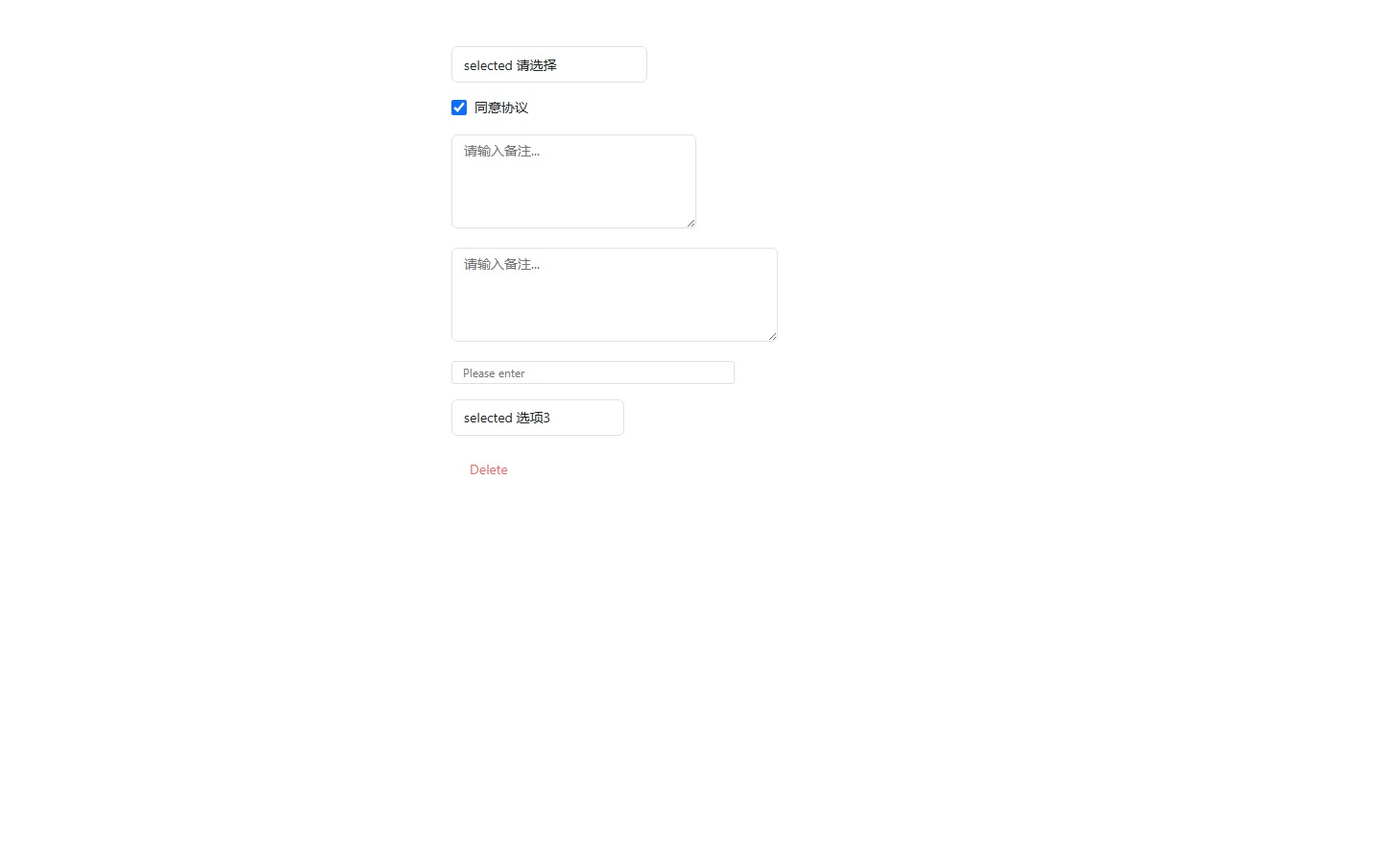button: (451, 451, 526, 487)
checkbox: (451, 99, 467, 115)
icon: (474, 98, 528, 116)
input: (451, 360, 735, 384)
radio: (451, 98, 528, 116)
select: (451, 46, 647, 83), (451, 399, 624, 435)
textarea: (451, 247, 778, 341), (451, 134, 696, 228)
